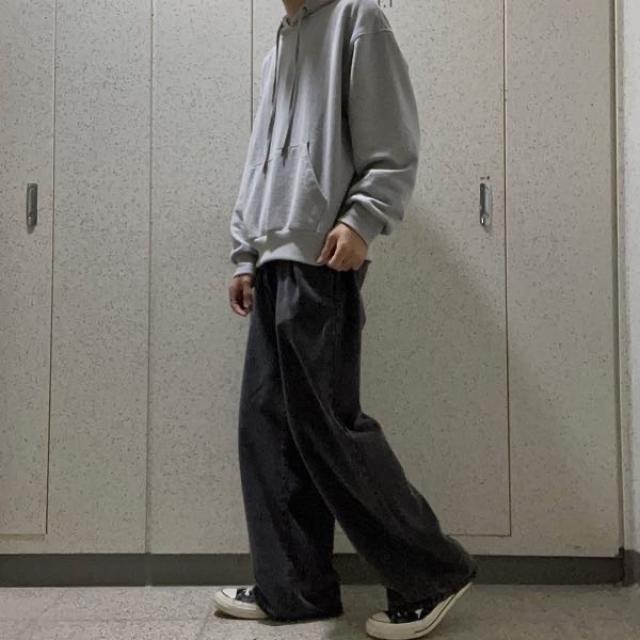denimpants: (237, 250, 477, 620)
mtm: (228, 0, 419, 277)
